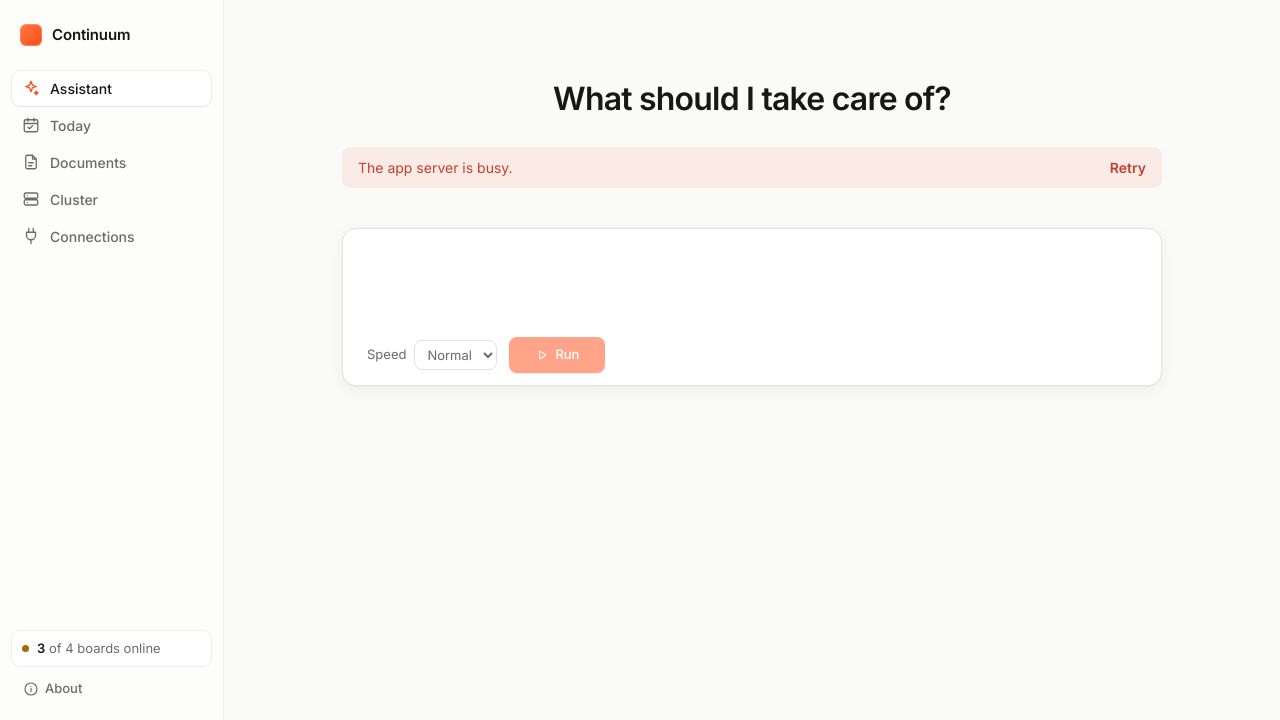
it: Assistant: ask › offers to retry when the example jobs could not be loaded
expect the message shows "The app server is busy.": met, box top-left (358, 159), bottom-right (513, 176)
Step 1. Click the button "Retry" → (1128, 168), box top-left (1110, 157), bottom-right (1146, 178)
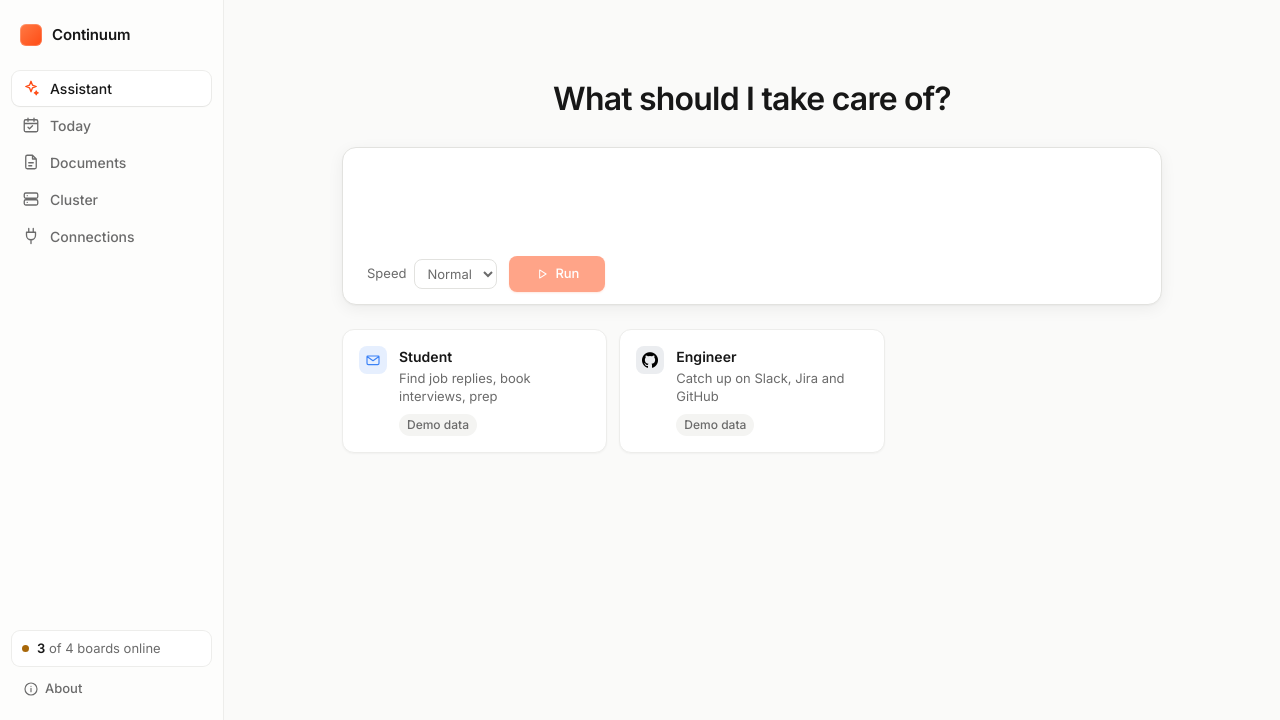
expect the button "Engineer Catch up on Slack, Jira and GitHub Demo data" is shown: met, box top-left (619, 329), bottom-right (885, 453)
expect the message "The app server is busy. Retry" is gone: met
